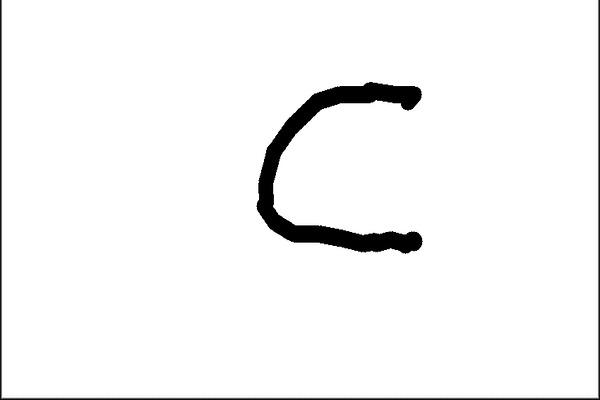C: (253, 75, 426, 257)
